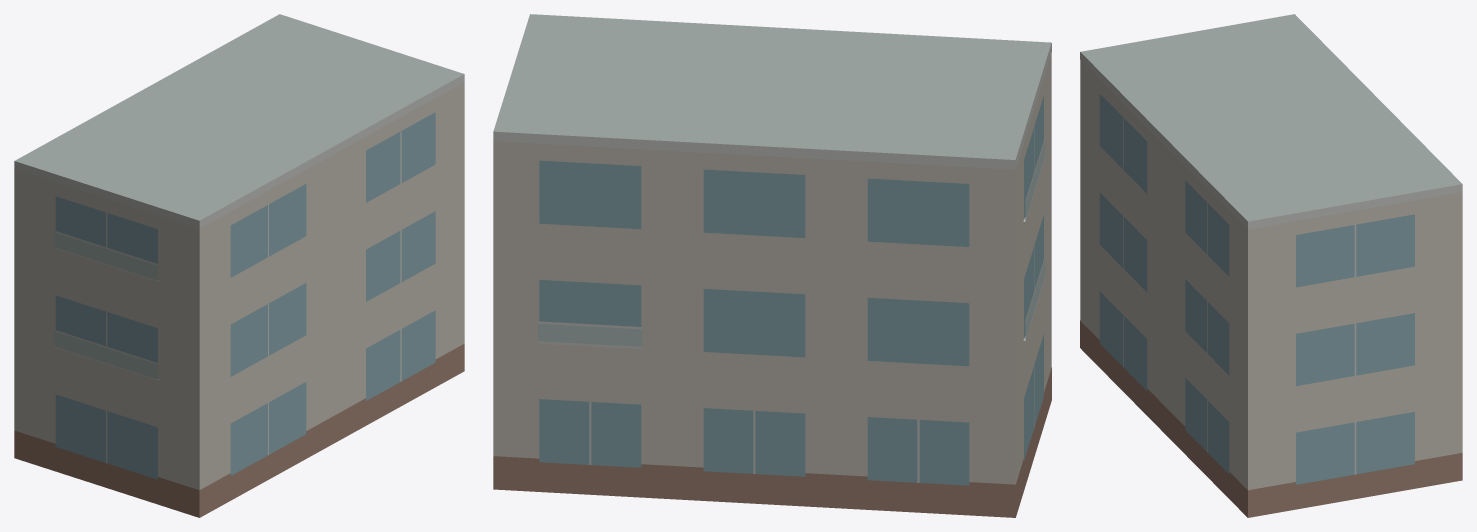
File: survey-upis-32625145.glb
3 renders of one model, left to right at view 1: azimuth 30°, elevation 25°; view 2: azimuth 150°, elevation 25°; view 3: azimuth 270°, elevation 25°, orthographic. The views are drawn at different scales.
Visible parts, largest first — view 1: survey-upis-32625145.tmp; view 2: survey-upis-32625145.tmp; view 3: survey-upis-32625145.tmp.
Part boxes in pixels (left/top/right/bottom): survey-upis-32625145.tmp: left=14, top=14, right=464, bottom=517; survey-upis-32625145.tmp: left=493, top=14, right=1051, bottom=517; survey-upis-32625145.tmp: left=1080, top=14, right=1462, bottom=517.
Size of the model in its own units: 13.76 by 9.15 by 10.71.
